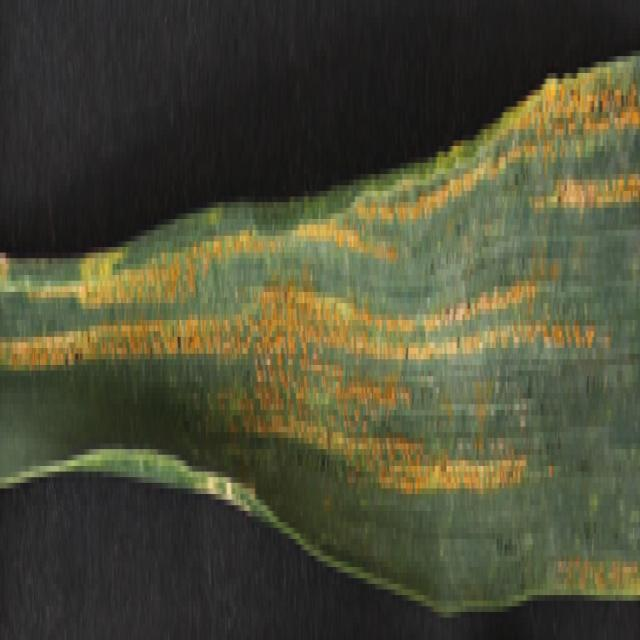leaf rust: (1, 68, 640, 506)
